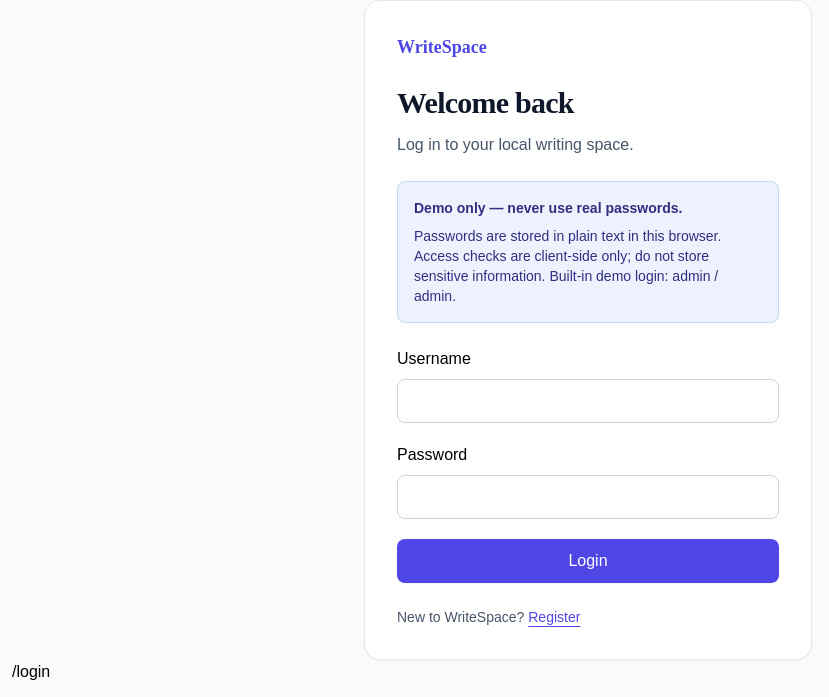
it: login UI › logs a registered writer into blogs using an exact password
This screenshot has width=829, height=697.
Type "writer" into the field labelled "Username". click: (588, 401)
box: top-left (397, 379), bottom-right (779, 423)
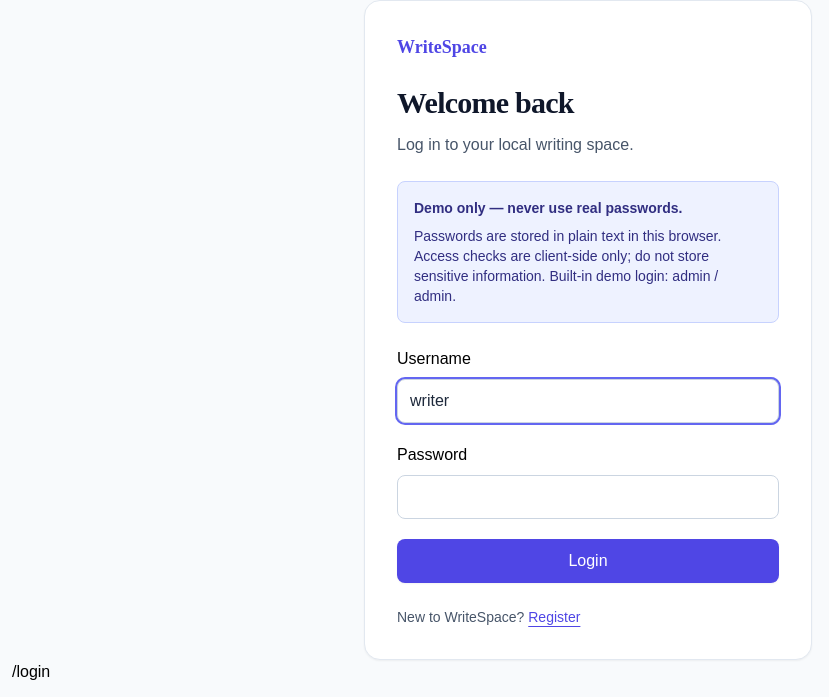
Type " demo " into the password field labelled "Password". click: (588, 497)
box: top-left (397, 475), bottom-right (779, 519)
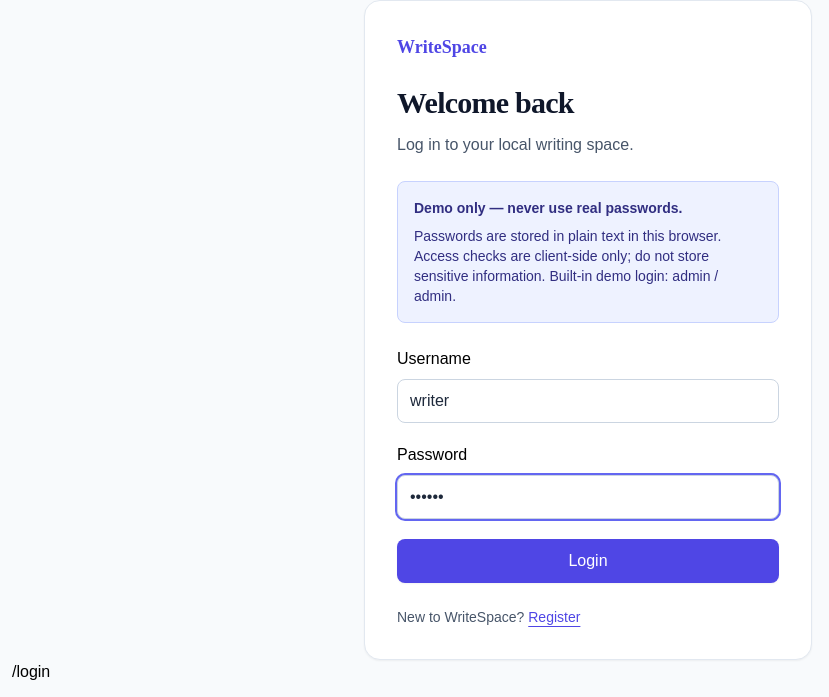
Click the button "Login". click: (588, 561)
box: top-left (397, 539), bottom-right (779, 583)
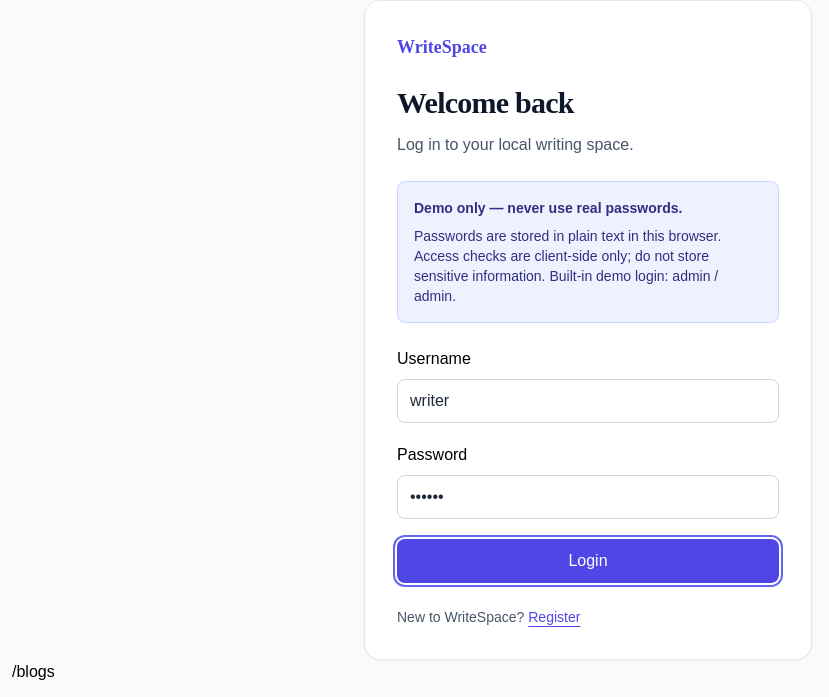
Expected: the text named "Current route" reads "/blogs", top-left (12, 663), bottom-right (55, 680)
